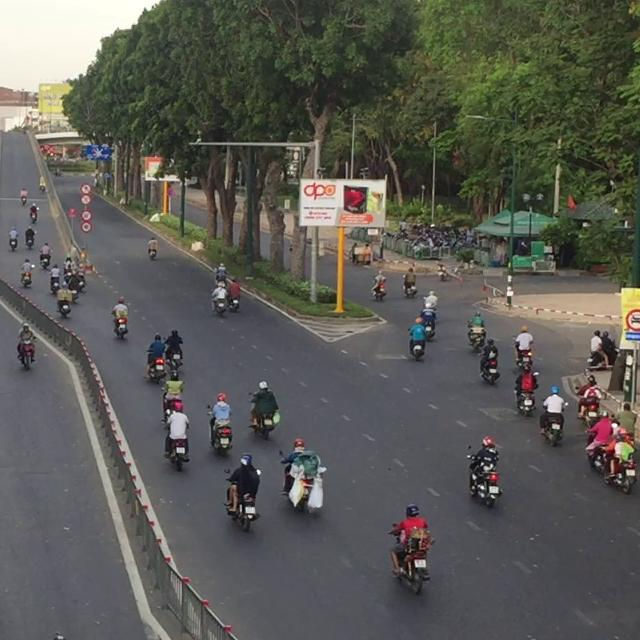Motorcycle: (387, 523, 433, 595), (281, 453, 327, 516), (222, 467, 261, 532), (466, 446, 502, 508), (602, 434, 638, 494), (247, 390, 280, 440), (162, 418, 190, 471), (539, 401, 568, 447), (586, 331, 618, 369), (514, 371, 539, 417), (160, 380, 184, 426), (209, 412, 233, 457), (578, 394, 603, 432), (585, 435, 609, 473), (144, 346, 167, 383), (478, 348, 500, 384), (16, 334, 36, 371), (406, 326, 426, 361), (418, 308, 437, 340), (466, 320, 486, 349), (514, 341, 533, 371), (163, 337, 183, 365), (55, 288, 73, 318), (112, 313, 129, 341), (164, 355, 182, 380), (210, 294, 228, 317), (371, 277, 387, 301), (19, 264, 34, 288), (402, 276, 417, 298), (226, 288, 240, 311), (49, 271, 60, 294), (39, 250, 51, 270)
